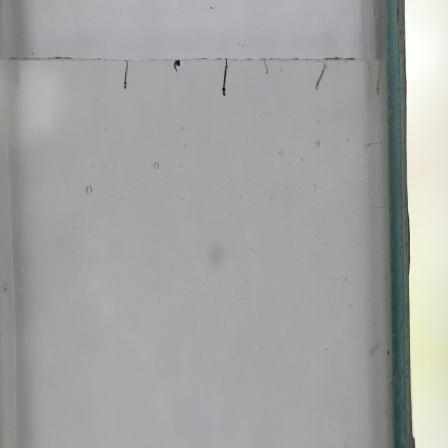Jentik-Nyamuk: (219, 58, 232, 100), (117, 57, 132, 92), (312, 59, 327, 91), (169, 55, 183, 74)
